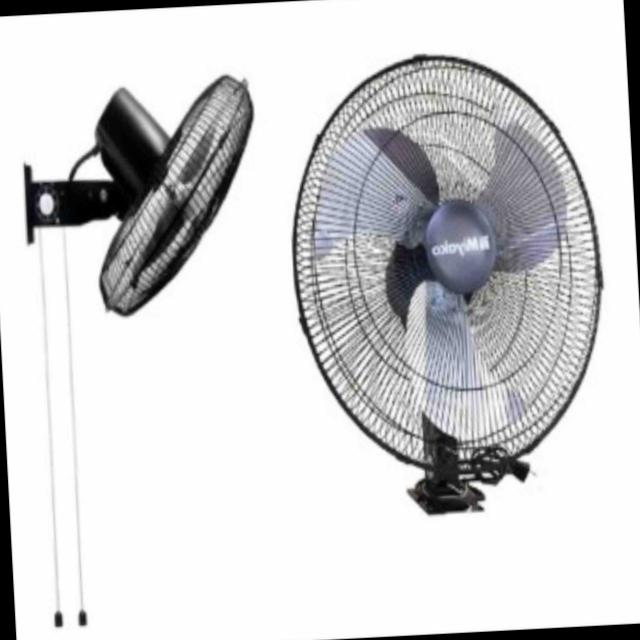fan: (277, 36, 621, 534)
